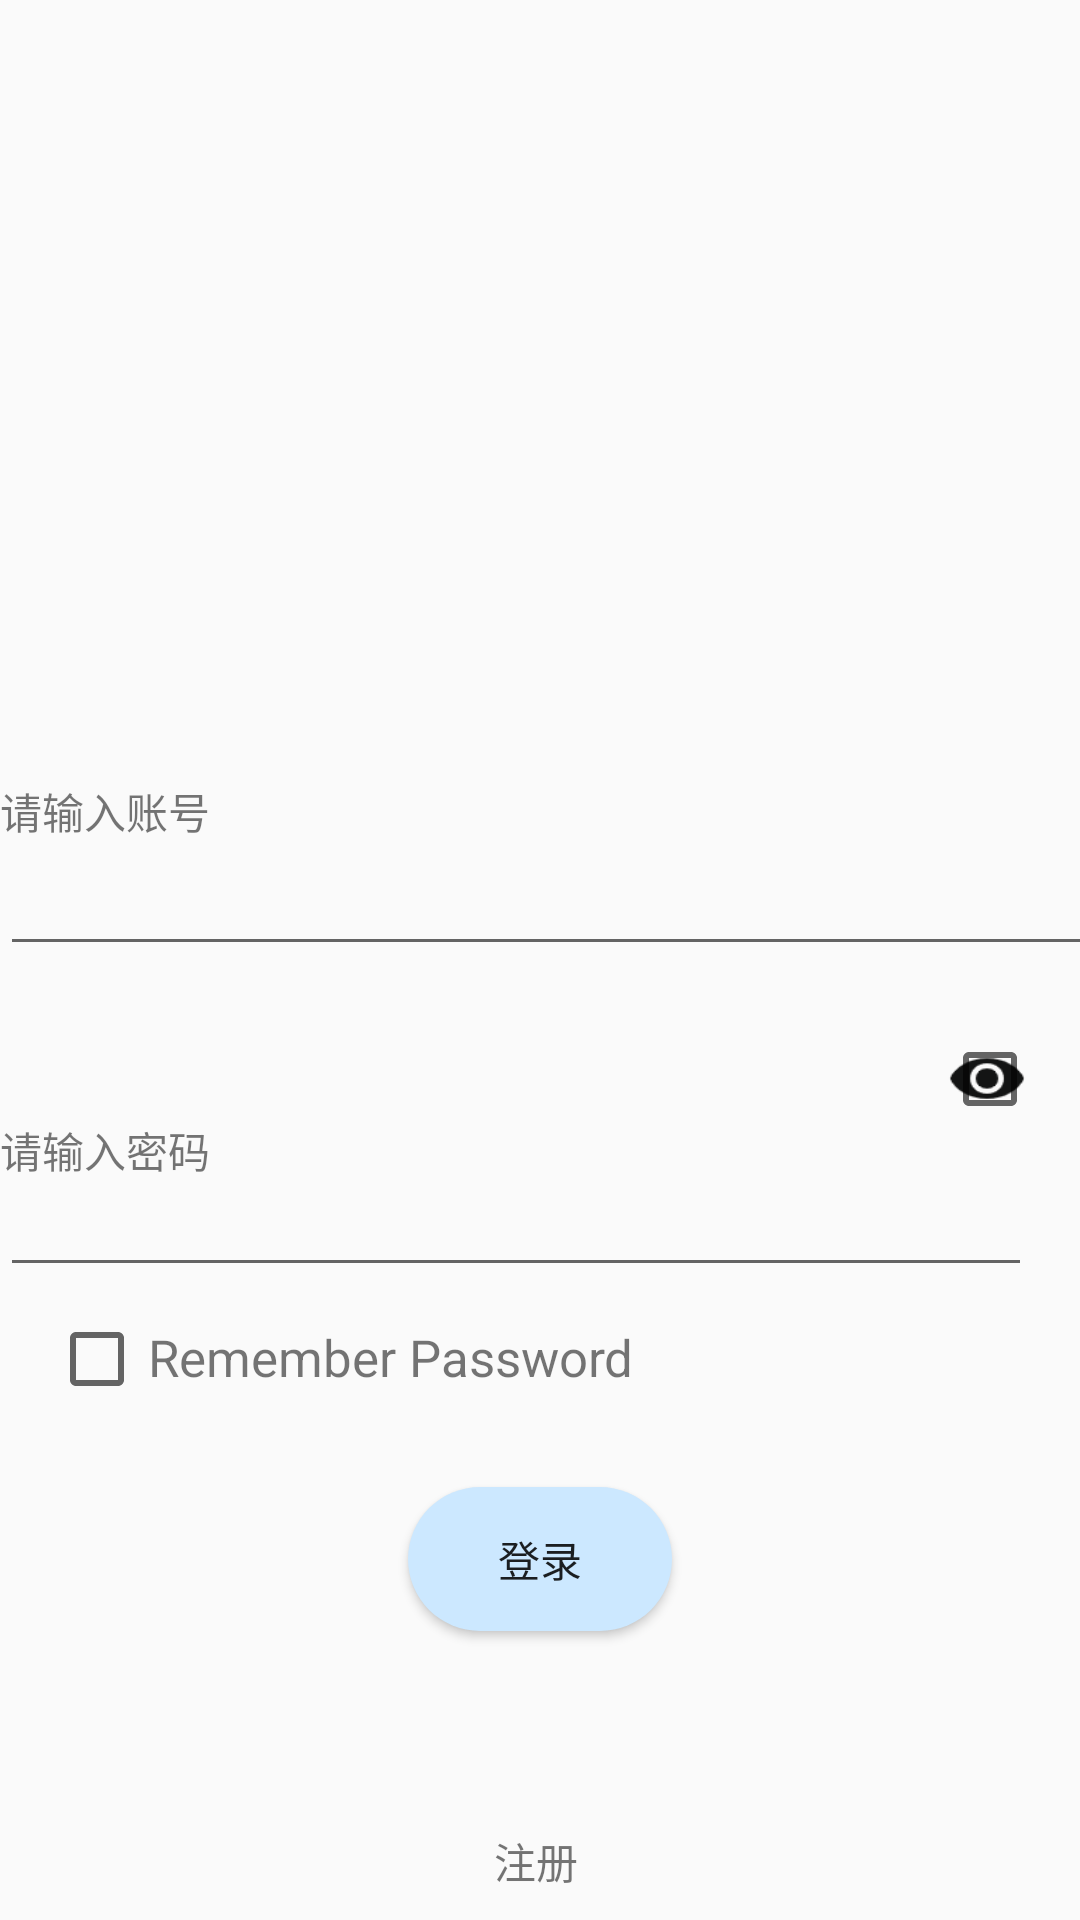

Where to tap for icons on this 1080×1920 app screen, as (x,y):
mi ma: (987,1079)
